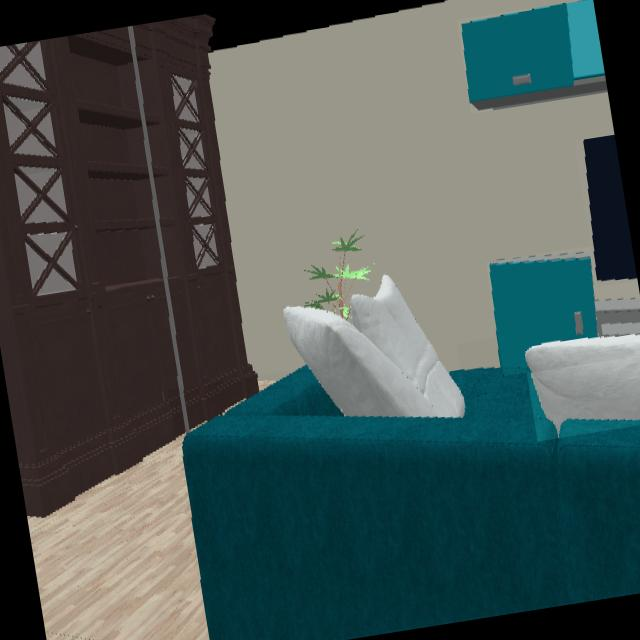bookshelf: (0, 14, 259, 517)
cabinet: (489, 256, 640, 376), (462, 0, 607, 111)
monitor: (584, 134, 638, 286)
pillow: (283, 275, 465, 418), (525, 335, 640, 433)
sofa: (182, 365, 640, 640)
